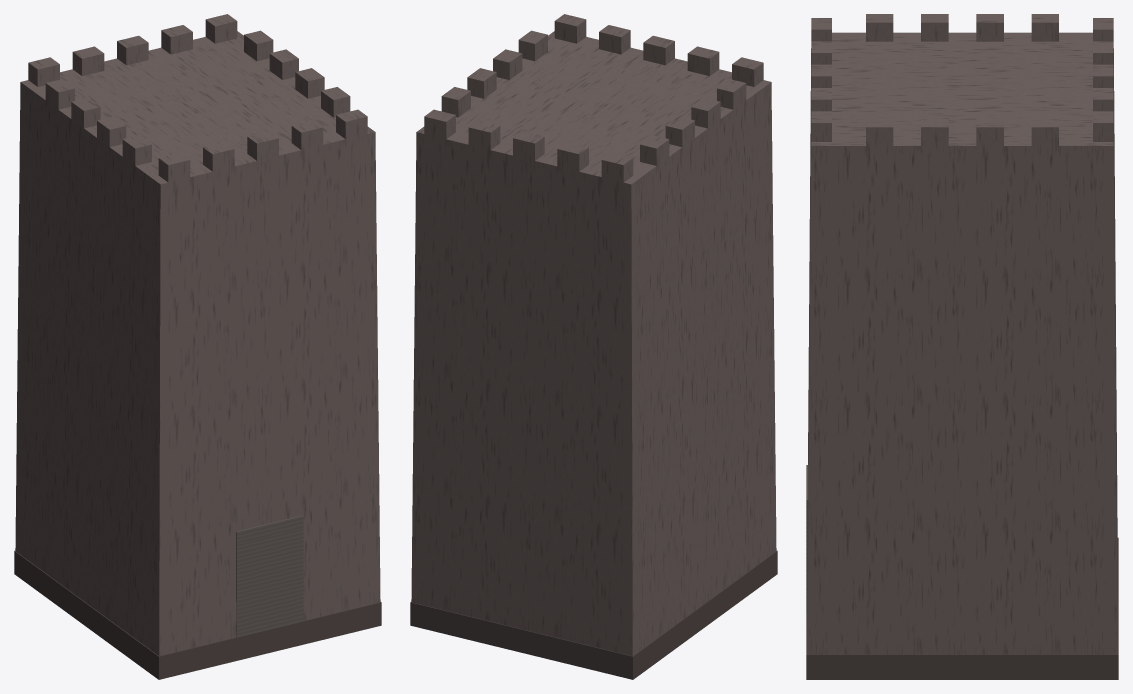
File: SM_Souq_Warehouse_W4D45_Crenel.fbx
The picture shows the model from 3 angles, left to right: view 1: azimuth 30°, elevation 25°; view 2: azimuth 150°, elevation 25°; view 3: azimuth 270°, elevation 25°; orthographic projection. The views are drawn at different scales.
Visible parts, largest first — view 1: SM_Souq_Warehouse_W4D45_Crenel; view 2: SM_Souq_Warehouse_W4D45_Crenel; view 3: SM_Souq_Warehouse_W4D45_Crenel.
Boxes of the visible parts, x1,y1,x2,y2 form: SM_Souq_Warehouse_W4D45_Crenel: [14, 14, 381, 679]; SM_Souq_Warehouse_W4D45_Crenel: [410, 14, 777, 679]; SM_Souq_Warehouse_W4D45_Crenel: [806, 14, 1118, 679].
Size of the model in its own units: 402 by 880 by 452.
3 materials, 3 textured.
